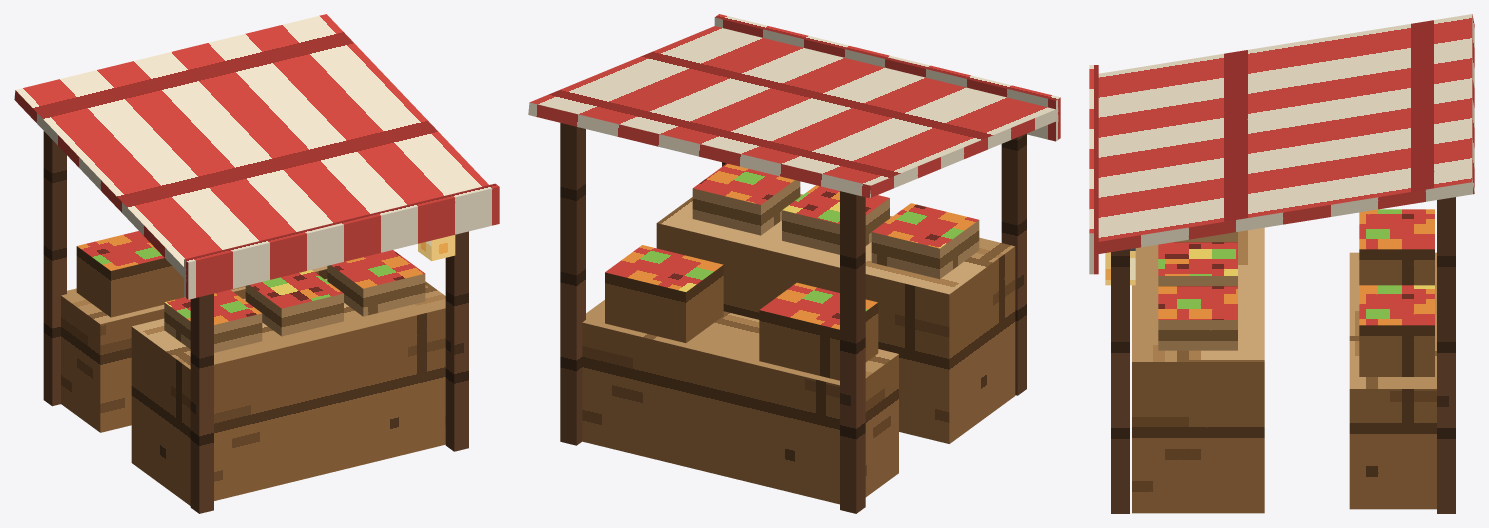
Rendered from stall.glb.
The picture shows the model from 3 angles, left to right: view 1: azimuth 30°, elevation 25°; view 2: azimuth 150°, elevation 25°; view 3: azimuth 270°, elevation 25°; orthographic projection. The views are drawn at different scales.
Visible parts, largest first — view 1: stall; view 2: stall; view 3: stall.
Part boxes in pixels (left/top/right/bottom): stall: left=14, top=14, right=499, bottom=513; stall: left=528, top=14, right=1060, bottom=513; stall: left=1089, top=14, right=1474, bottom=513.
Size of the model in its own units: 2.1 by 2 by 2.03.
Materials: 7 (7 with a texture image).
